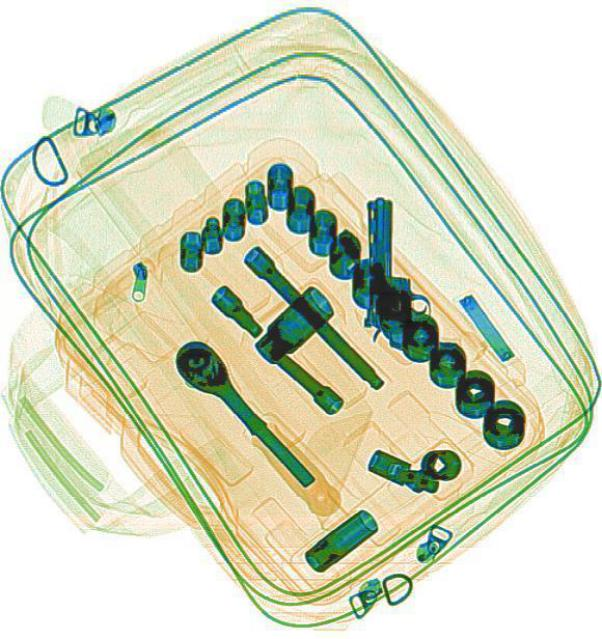Gun: (362, 195, 433, 352)
